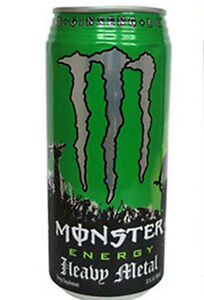metal: (43, 2, 173, 300)
